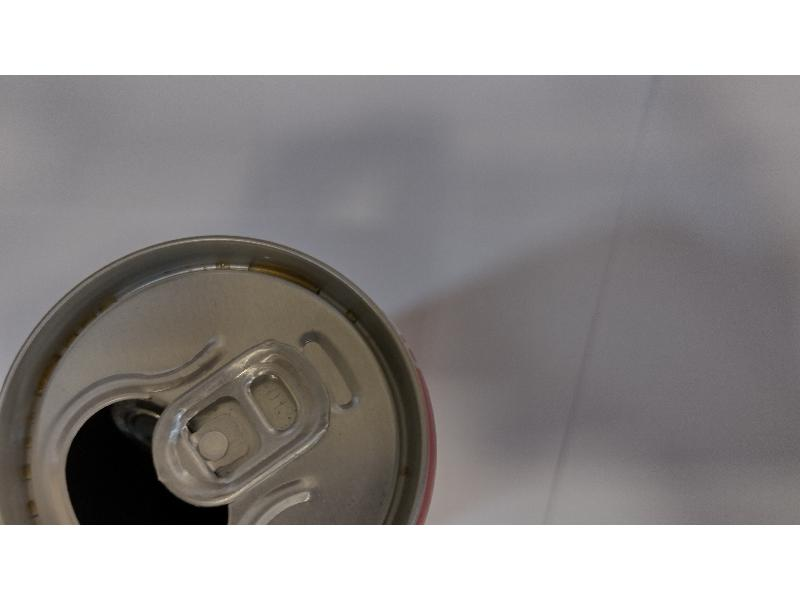can: (0, 226, 446, 526)
